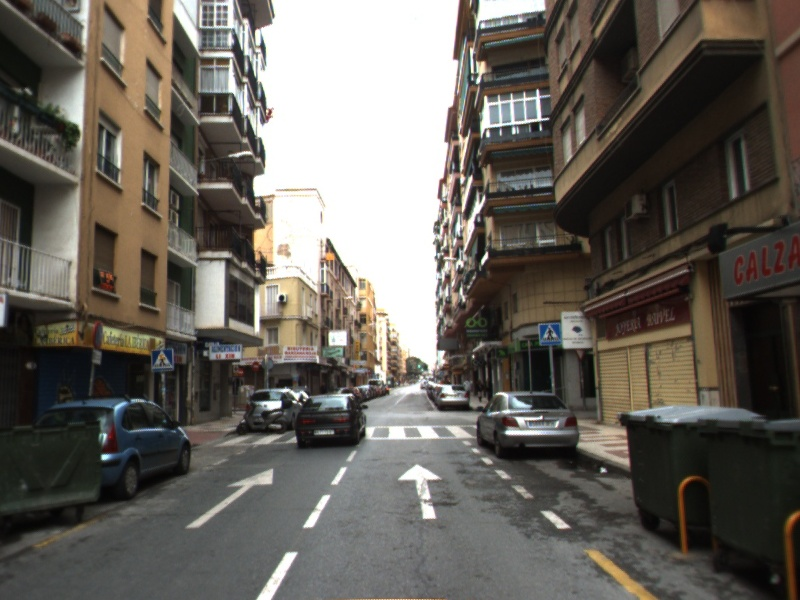STRAIGHT: (183, 466, 276, 531), (396, 462, 445, 521)
